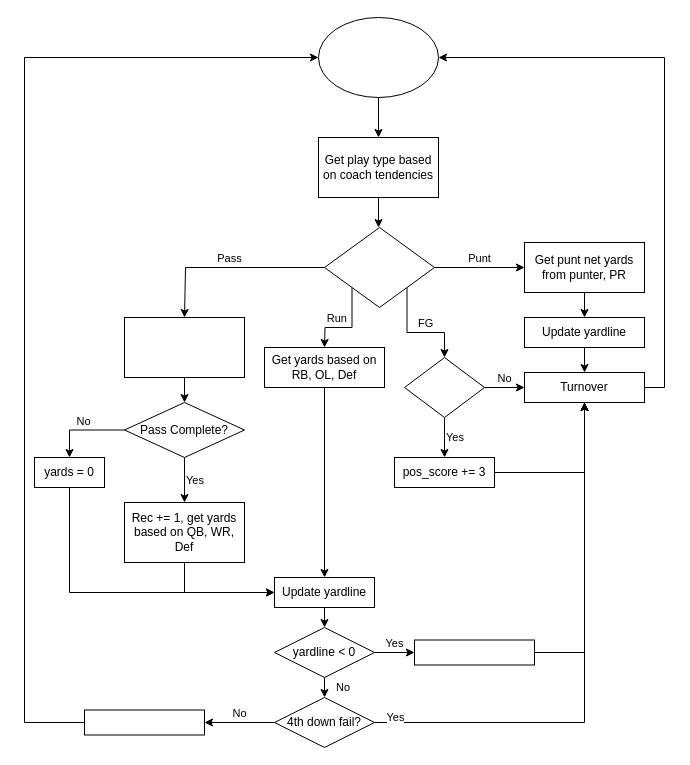
The diagram is 690 pixels wide and 765 high, and some of its shapes have lost their labels. Each missing label, with the centre of its shape:
"FG Good?" belongs at point 444,387.
"For snap in total_snaps" belongs at point 378,57.
"Get completion probability based on QB, WR" belongs at point 184,347.
"play_type" belongs at point 379,267.
"pos_score += 7" belongs at point 474,652.
"Update down" belongs at point 144,722.
